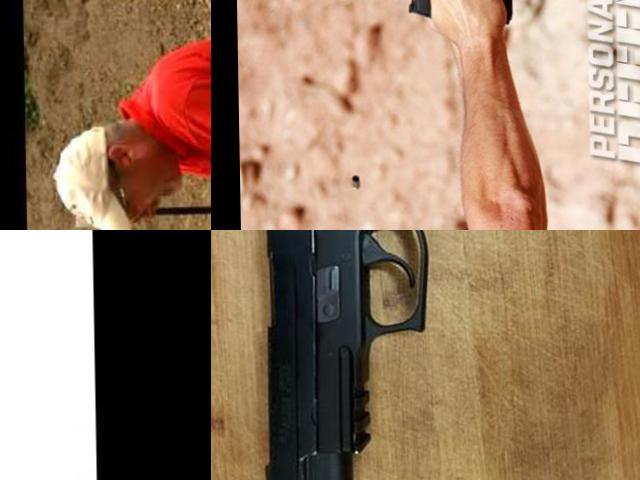handgun: (249, 230, 587, 480), (0, 230, 63, 342), (403, 0, 515, 48)
